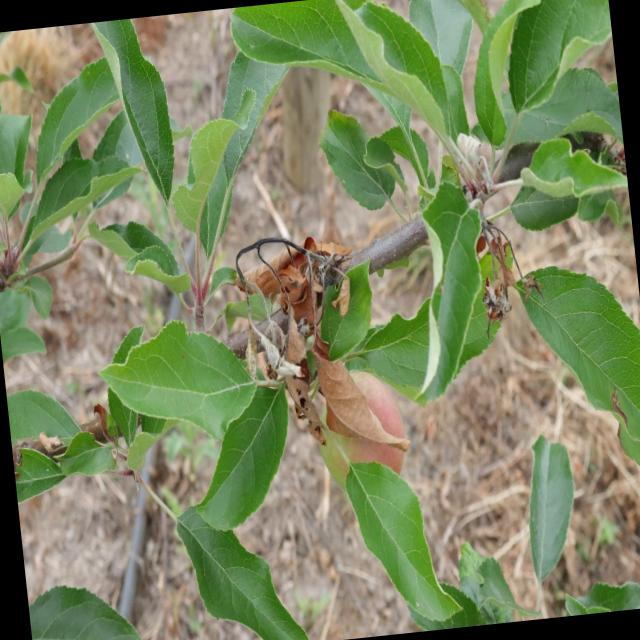-FireBlight-: (246, 229, 406, 461)
